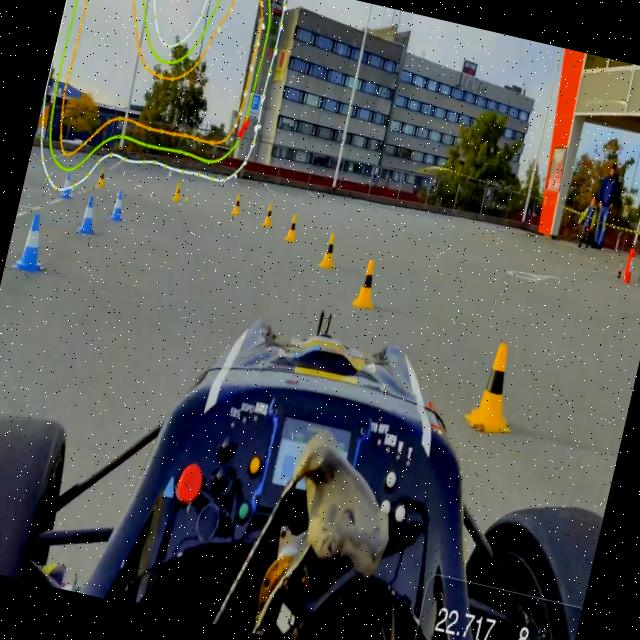blue_cone: (15, 197, 56, 276), (75, 190, 102, 236), (106, 185, 130, 225), (58, 170, 76, 204)
yellow_cone: (464, 338, 524, 444), (351, 255, 384, 316), (316, 225, 342, 272), (258, 196, 278, 235), (226, 186, 246, 218), (284, 210, 302, 241), (171, 181, 185, 205), (96, 166, 110, 190)
